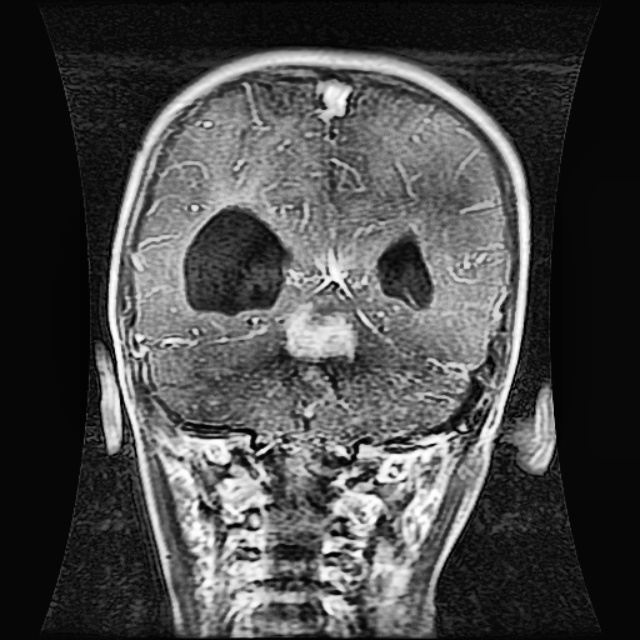Meningioma: (178, 202, 359, 369)
